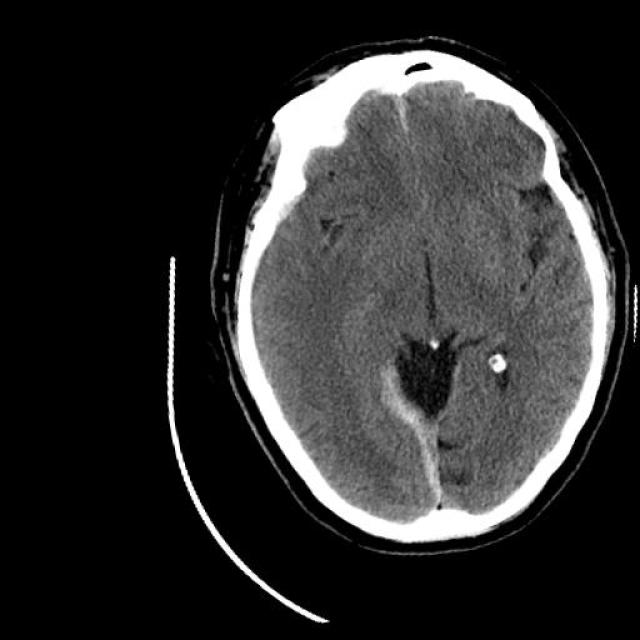Subdural: (361, 348, 498, 536)
